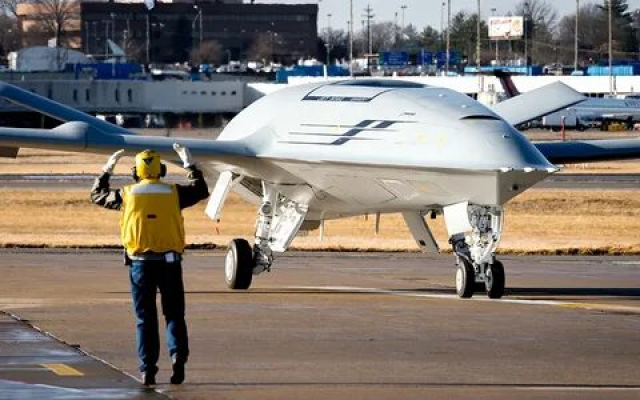military drone: (0, 78, 640, 299)
